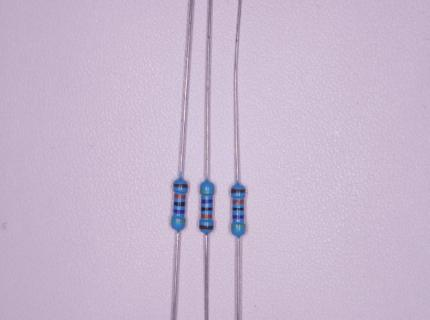Black band: (173, 202, 185, 207), (232, 207, 244, 211), (201, 207, 212, 211)
Brown band: (173, 183, 188, 189), (199, 225, 214, 230), (231, 188, 246, 193)
Orange band: (174, 194, 186, 199), (201, 214, 212, 219), (232, 200, 244, 204)
Violet band: (173, 209, 185, 214), (201, 199, 212, 204), (232, 215, 244, 219)
Yellow band: (231, 225, 246, 229), (200, 190, 214, 194), (171, 219, 185, 223)
